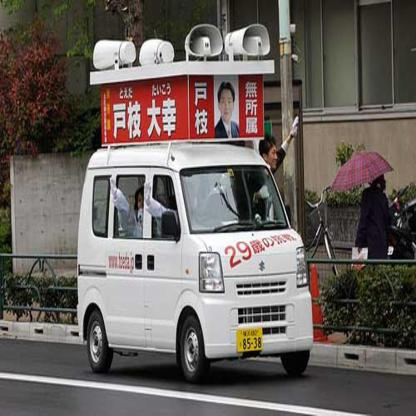face: (220, 91, 234, 121), (269, 143, 279, 170), (137, 193, 146, 213)
